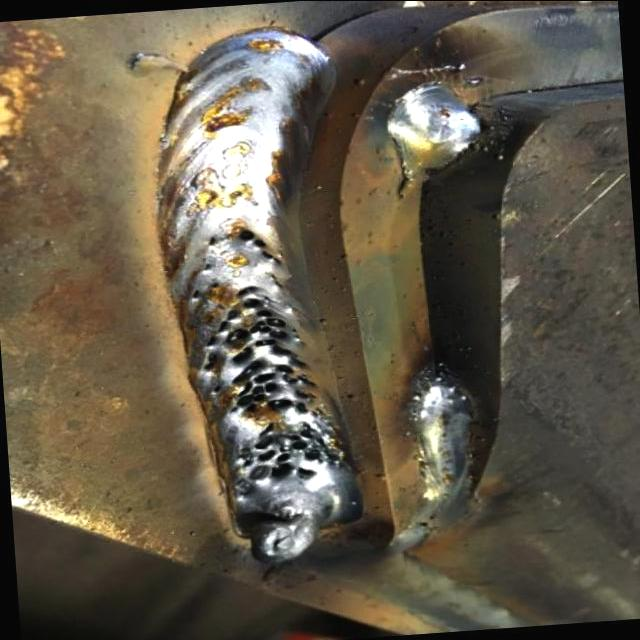defect: (199, 288, 323, 419), (236, 417, 344, 488), (231, 220, 293, 269), (267, 275, 290, 294), (201, 233, 222, 252), (187, 285, 203, 300), (210, 280, 225, 290), (202, 259, 214, 271)
